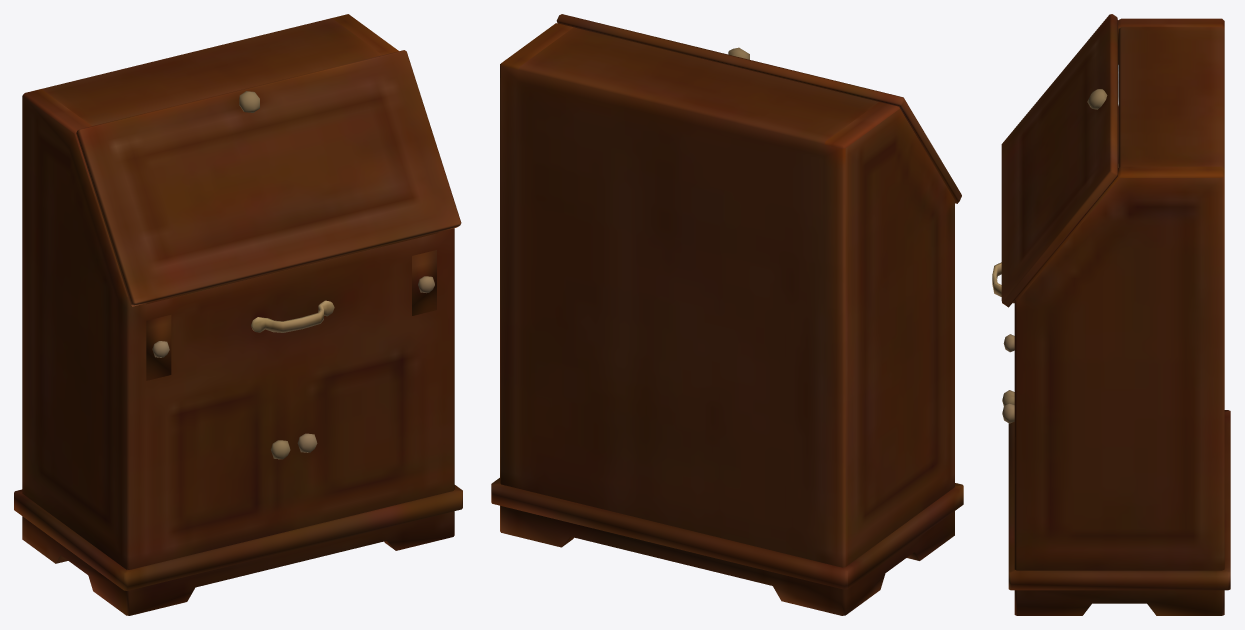
The picture shows the model from 3 angles, left to right: view 1: azimuth 30°, elevation 25°; view 2: azimuth 150°, elevation 25°; view 3: azimuth 270°, elevation 25°; orthographic projection. The views are drawn at different scales.
Bounding box in the file's own units: 9.52 × 12.18 × 5.87.
2 materials, 2 textured.
